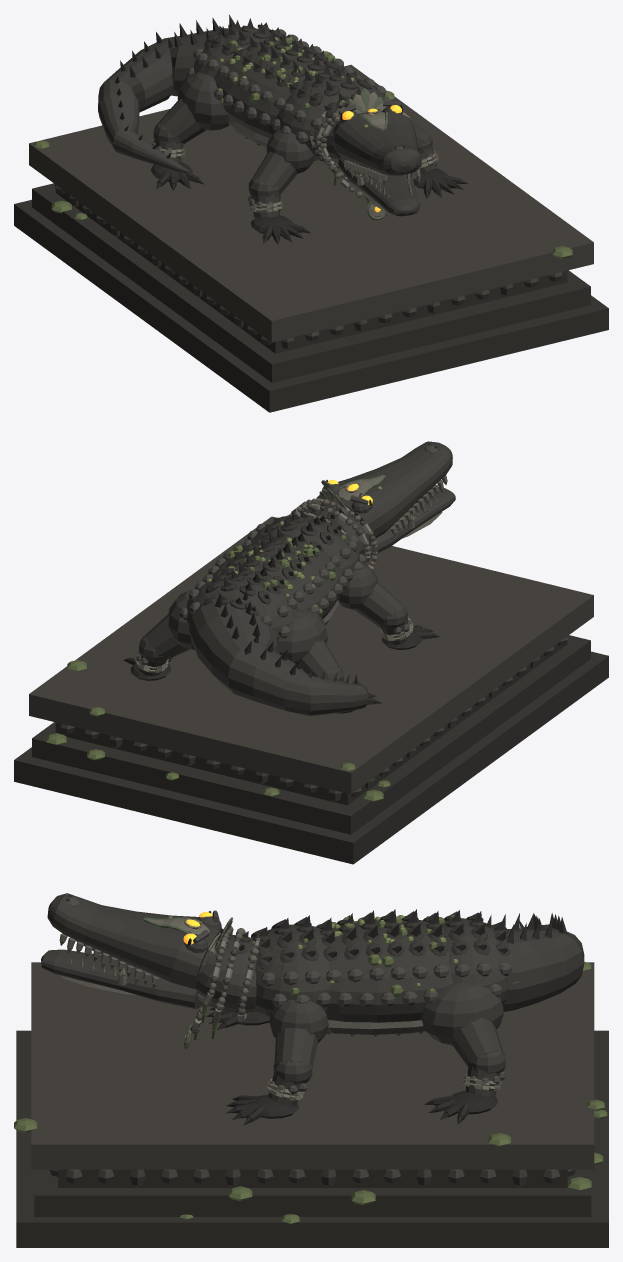
Rendered from idol_makarosh.glb.
3 views of the same model, one above another, from view 1: azimuth 30°, elevation 25°; view 2: azimuth 150°, elevation 25°; view 3: azimuth 270°, elevation 25° (orthographic). The views are drawn at different scales.
Parts seen in each view (by area): view 1: idol_makarosh_plinth, idol_makarosh; view 2: idol_makarosh_plinth, idol_makarosh; view 3: idol_makarosh_plinth, idol_makarosh.
Part boxes in pixels (x1,y1,x2,y2): idol_makarosh_plinth: (14,64,608,412); idol_makarosh: (98,14,468,244); idol_makarosh_plinth: (14,516,608,864); idol_makarosh: (123,441,455,716); idol_makarosh_plinth: (14,962,608,1247); idol_makarosh: (41,893,584,1125).
Size of the model in its own units: 2.33 by 1.37 by 3.01.
